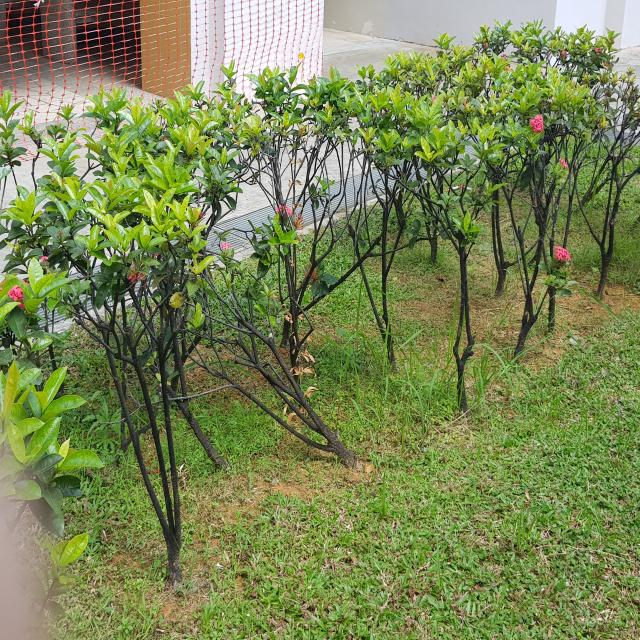Chinese-Ixora: (122, 251, 160, 289), (9, 279, 30, 312), (528, 112, 544, 134), (303, 261, 319, 282), (554, 245, 571, 263), (276, 203, 292, 219), (293, 211, 305, 231), (220, 239, 231, 252), (559, 156, 567, 168), (40, 254, 49, 263), (558, 49, 567, 58), (594, 46, 602, 54), (504, 64, 511, 70)
